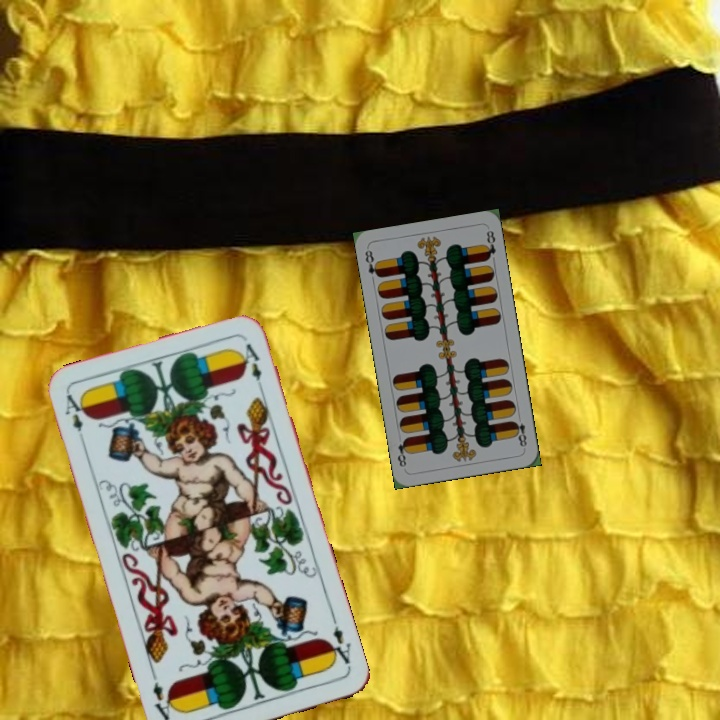E8: (361, 246, 383, 280), (509, 417, 529, 451)
EA: (61, 390, 90, 447), (323, 622, 353, 670)
